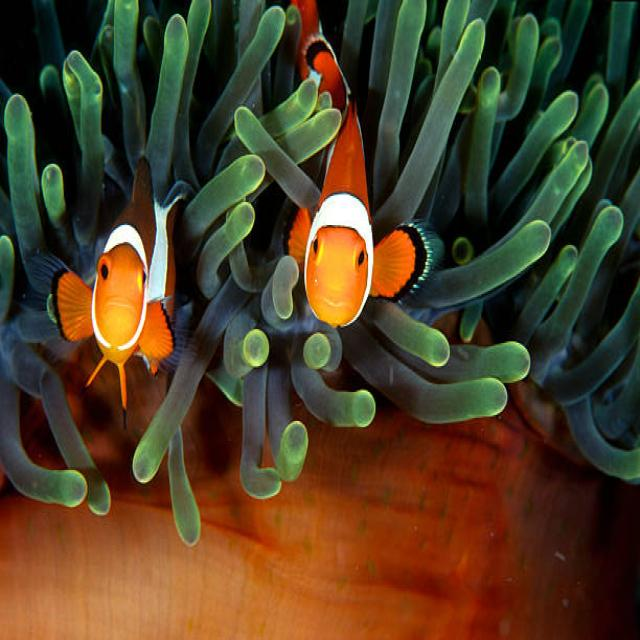ClownFish: (284, 0, 432, 334), (51, 147, 174, 423)
